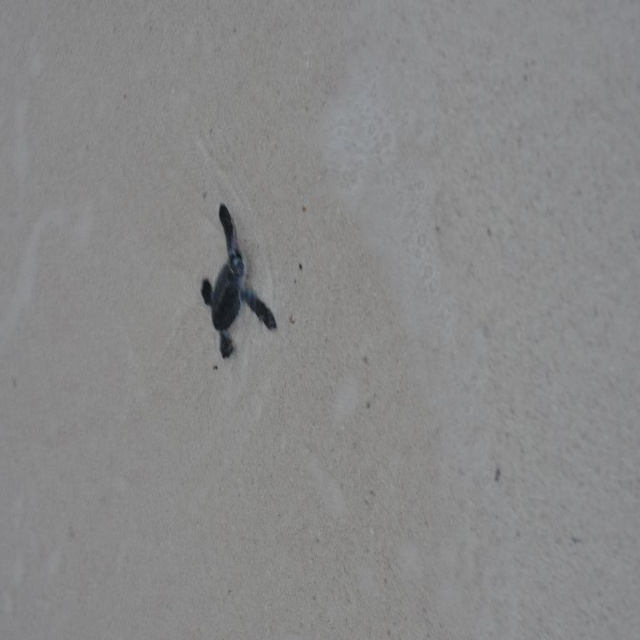Sea turtle: (195, 201, 275, 362)
